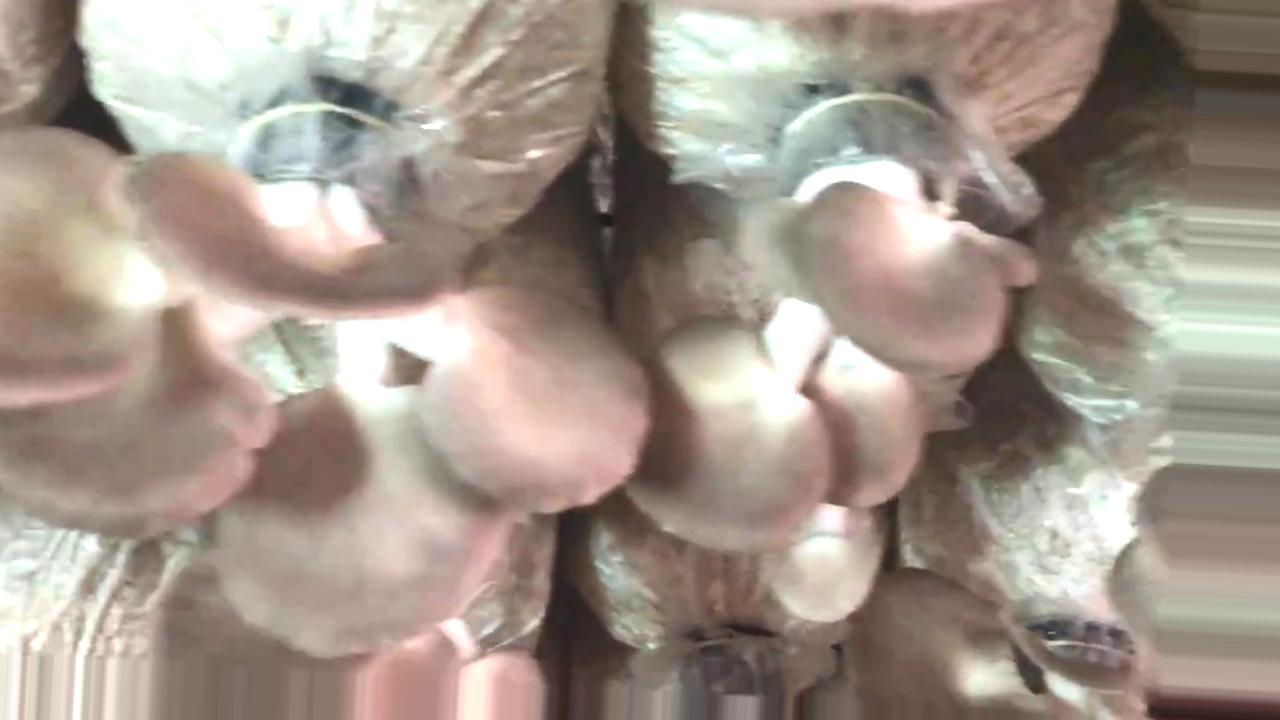nam: (1, 113, 652, 656), (623, 109, 1038, 617), (842, 569, 1128, 719)
